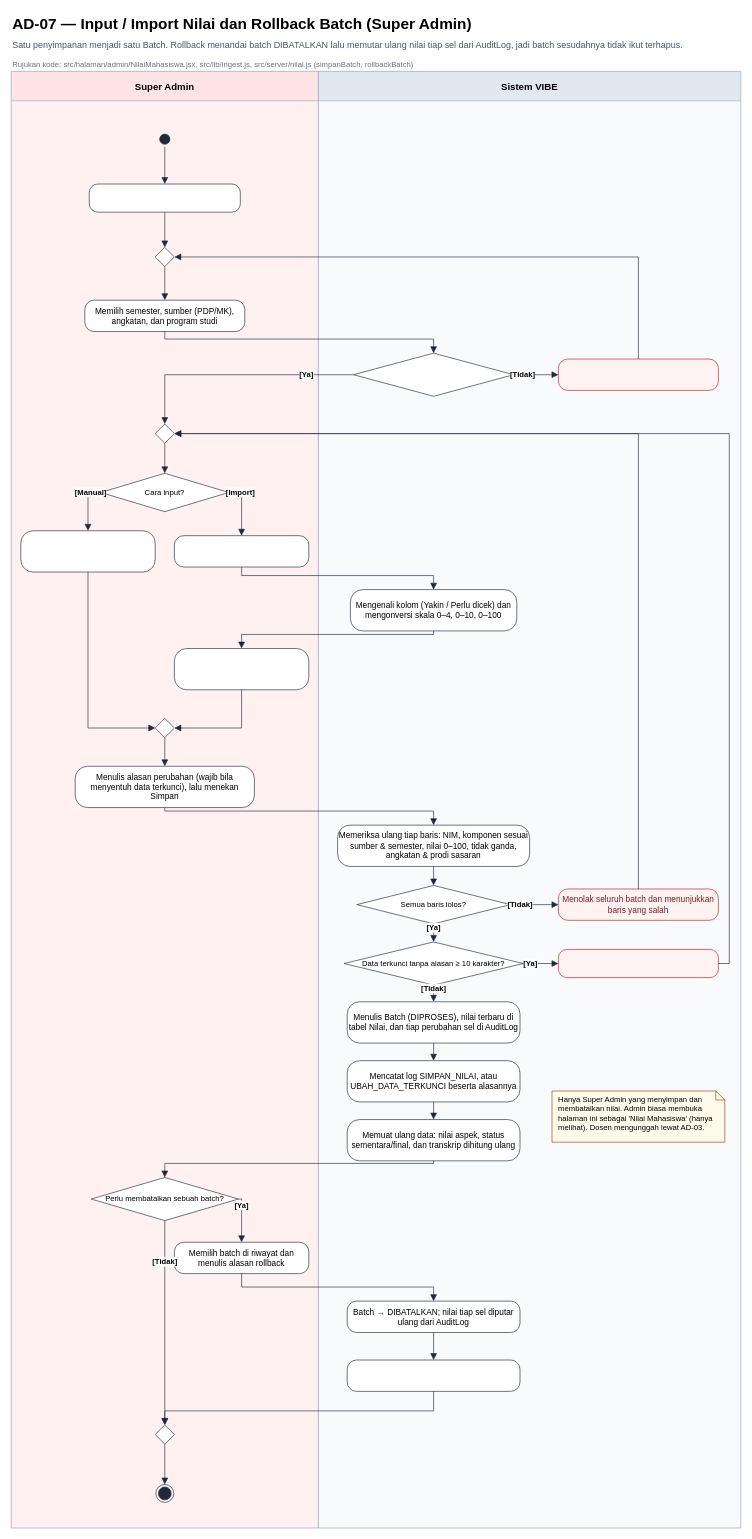
Image size: 752x1539. Some labels were removed from this diagram. The shapes that lost their labels are listed below. From the top down, each one's centre as x and y in pixels, then its label:
At [164,197]: "Membuka menu Input & Import Nilai".
At [433,374]: "Angkatan sudah sampai semester itu?".
At [638,374]: "Menampilkan peringatan; semester itu belum bisa diisi".
At [87,551]: "Mengisi tabel mahasiswa × komponen (0–100); sel kosong tetap kosong".
At [241,551]: "Mengunggah Excel/CSV (format baku atau rekap mentah dosen)".
At [241,669]: "Memeriksa atau mengubah pemetaan kolom, lalu 'Isi otomatis'".
At [638,963]: "Menolak: alasan perubahan wajib diisi".
At [433,1375]: "Mencatat log BATALKAN_BATCH atau ROLLBACK_DATA_TERKUNCI".
